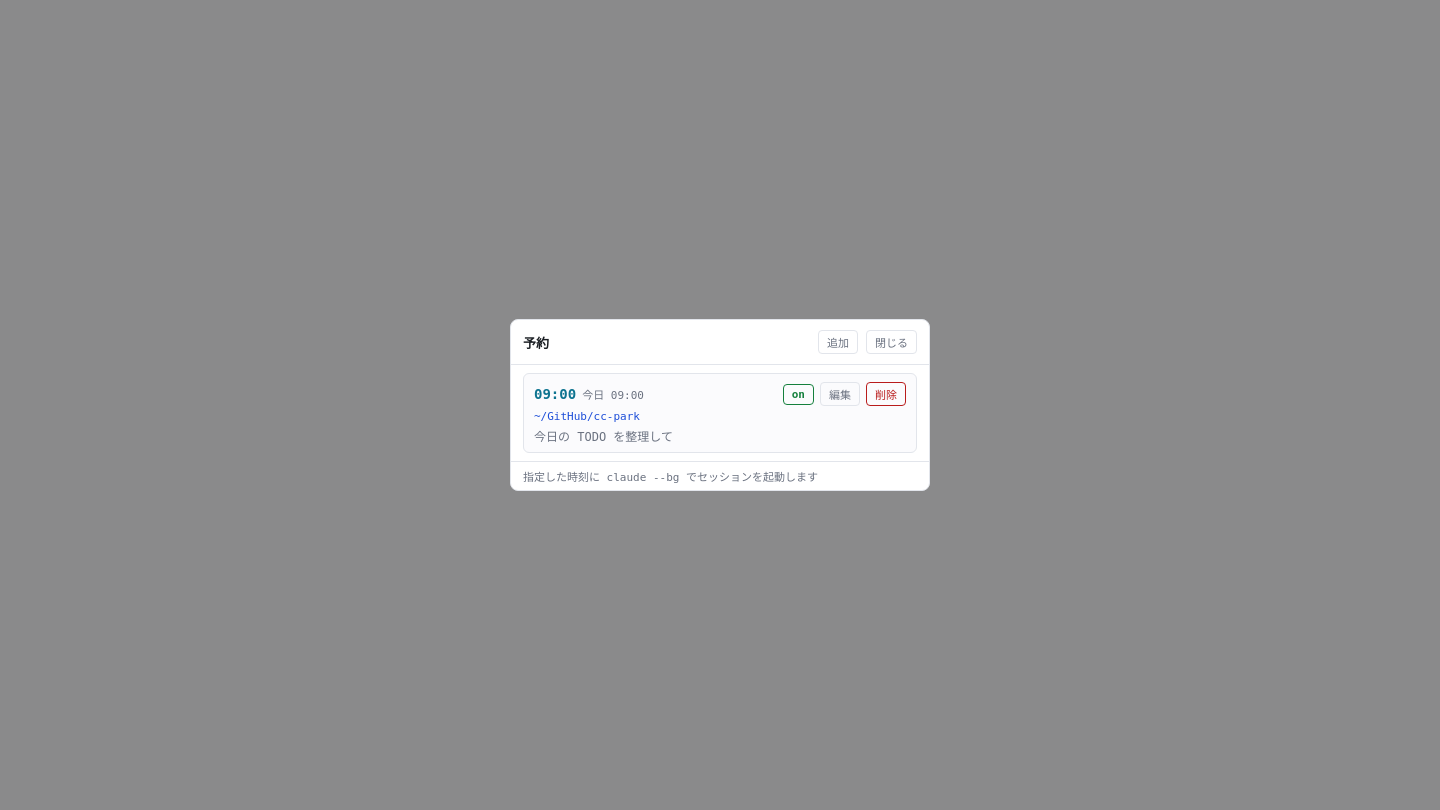
Test: SchedulePanel › 削除の確認を取り消せる
Click the button "削除" at x=886, y=394, box [866, 382, 906, 406]
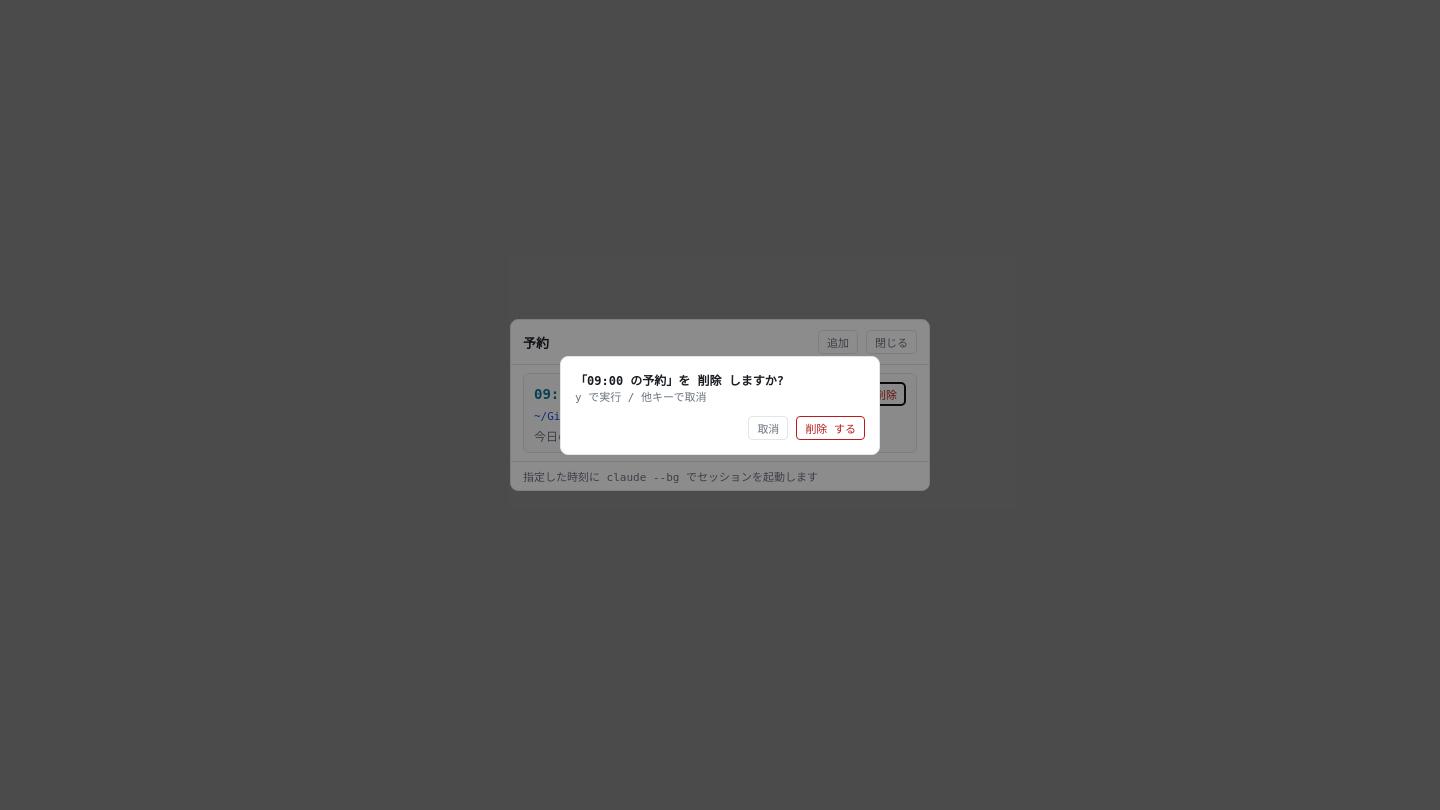
Click the button "取消" at x=768, y=428, box [748, 416, 788, 440]
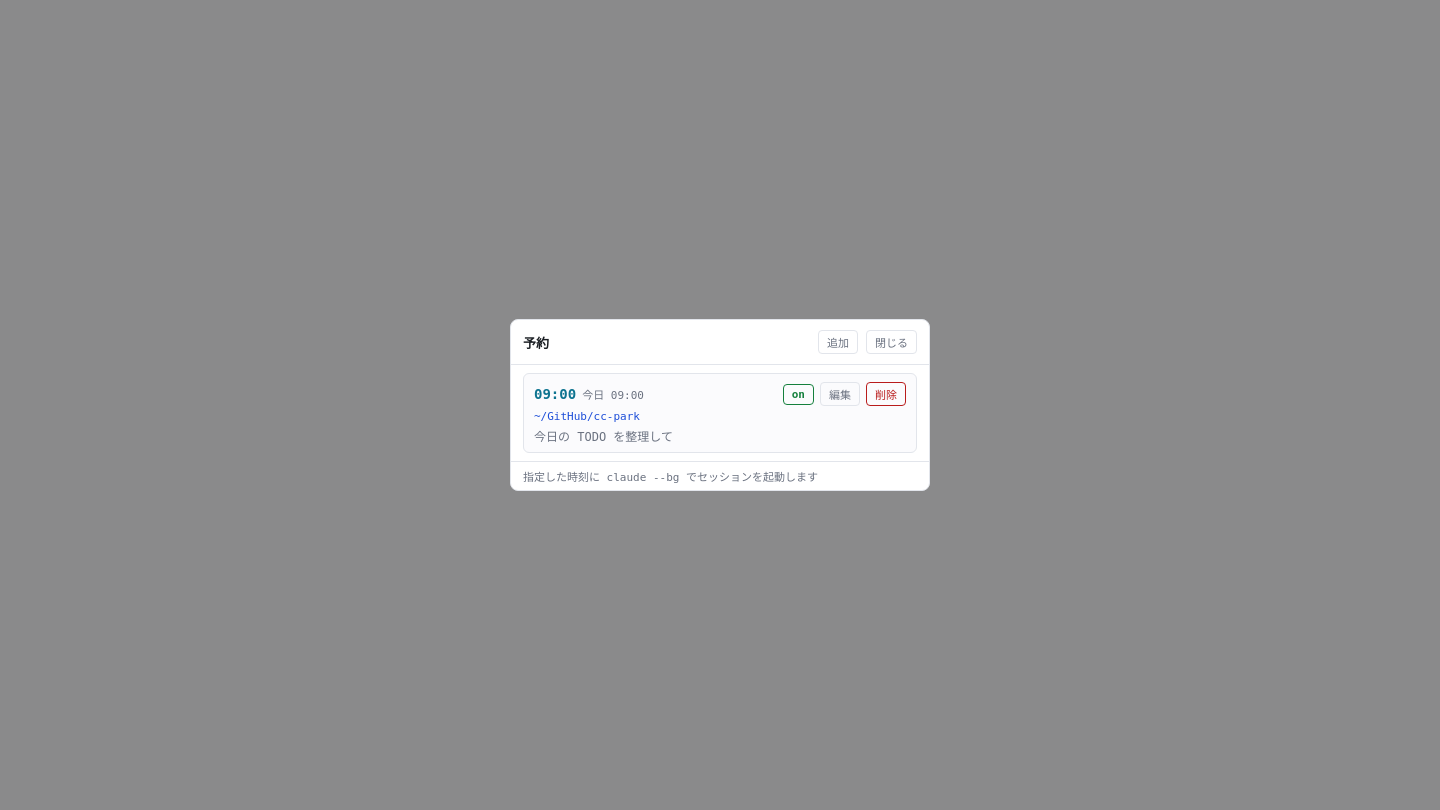
Now the button "削除 する" is gone
